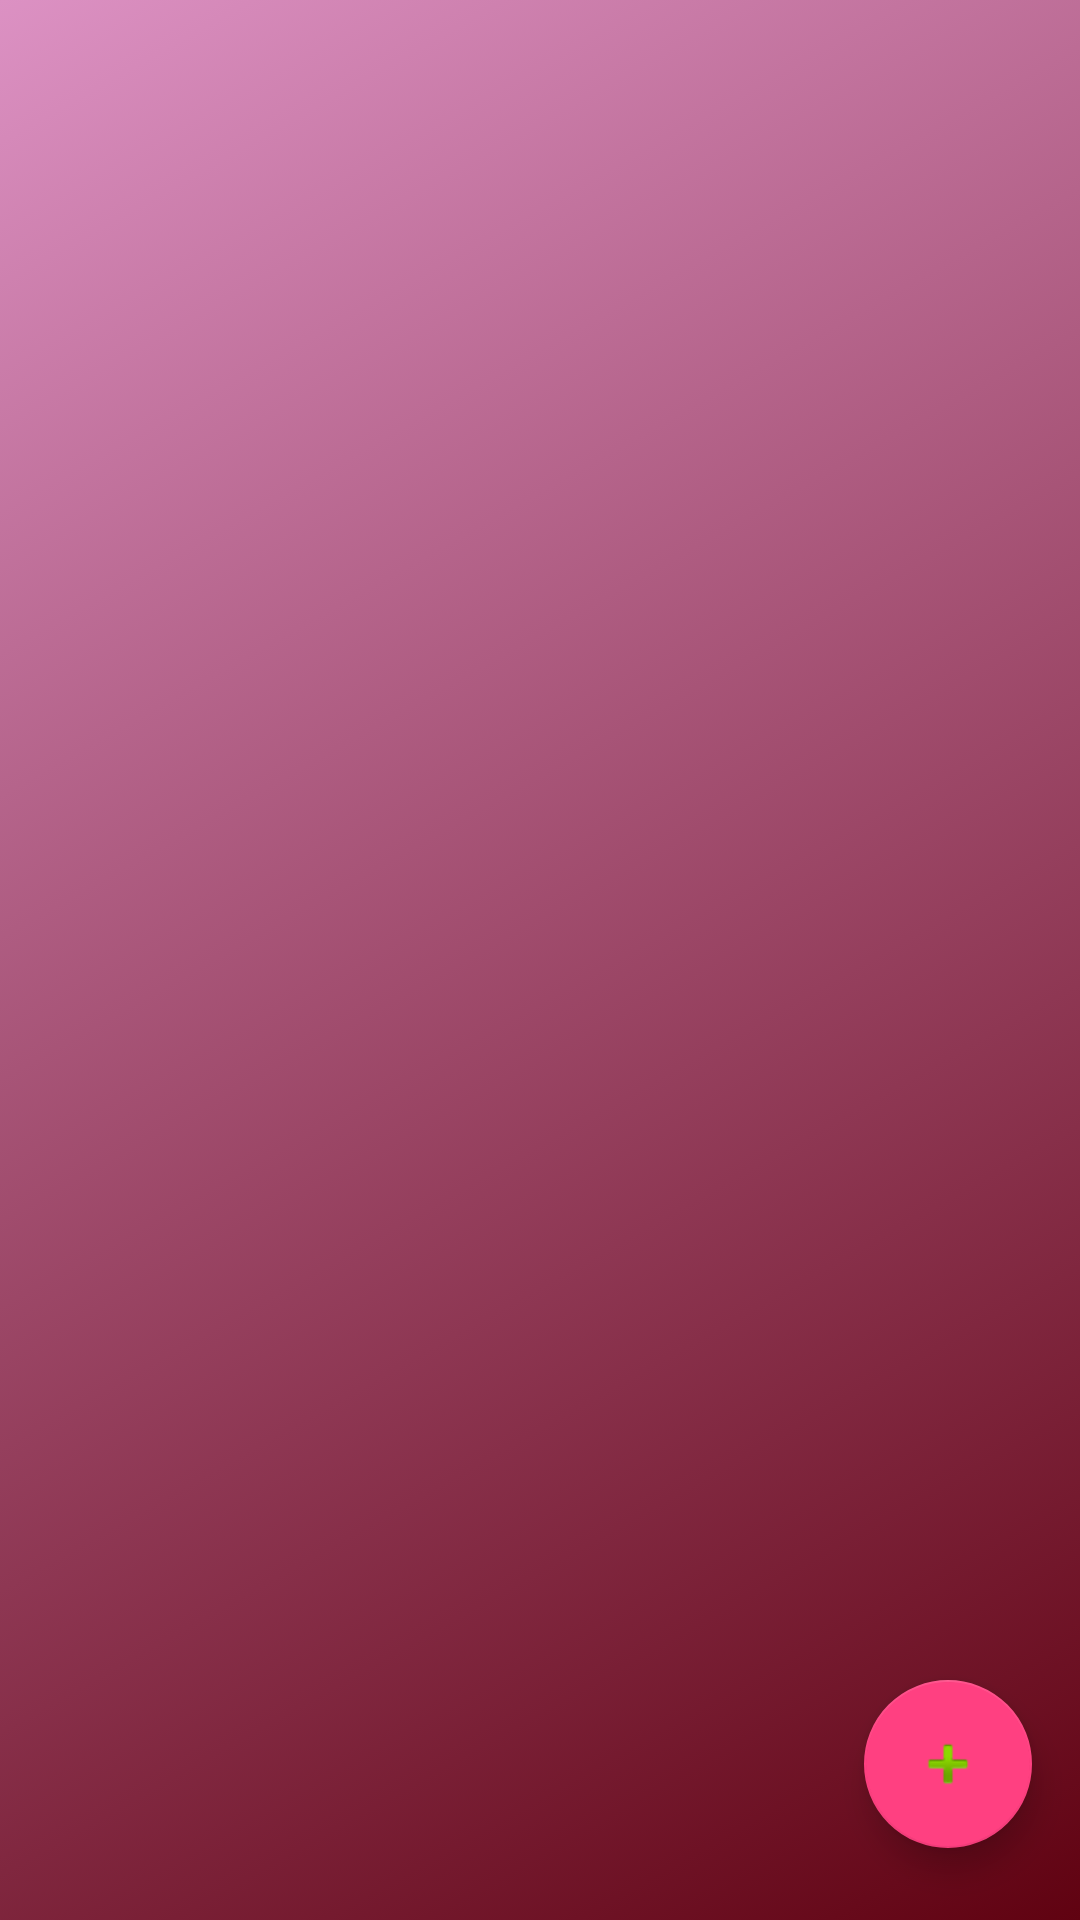

Named icons in this screenshot (1080px x 1920px) and their bounding boxes, (x1, y1, x2, y2):
add: (864, 1680, 1032, 1848)
